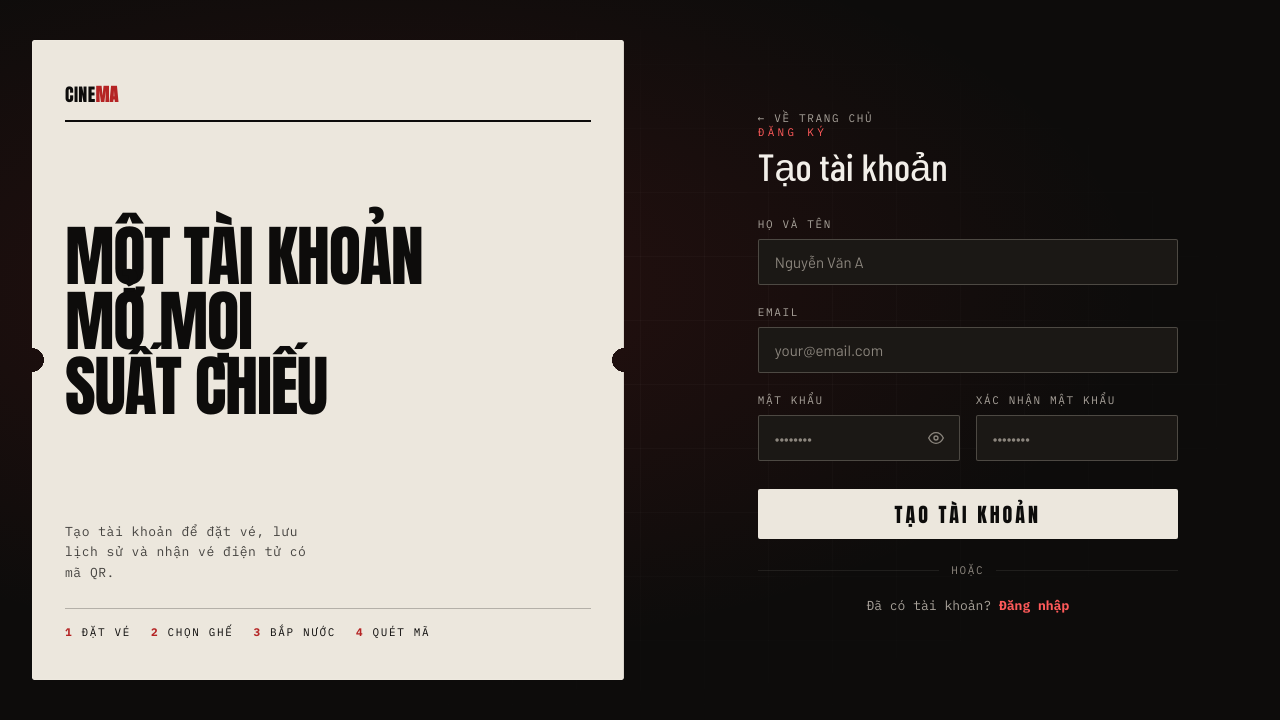
it: Register › thiếu trường thì báo lỗi, không gọi API
The width and height of the screenshot is (1280, 720).
Check: the button "Tạo tài khoản" is shown, box x1=758 y1=489 x2=1178 y2=539
Type "Người Mới" into the field labelled "Họ và tên".
click(968, 262); type("Người Mới")  # box x1=758 y1=239 x2=1178 y2=285
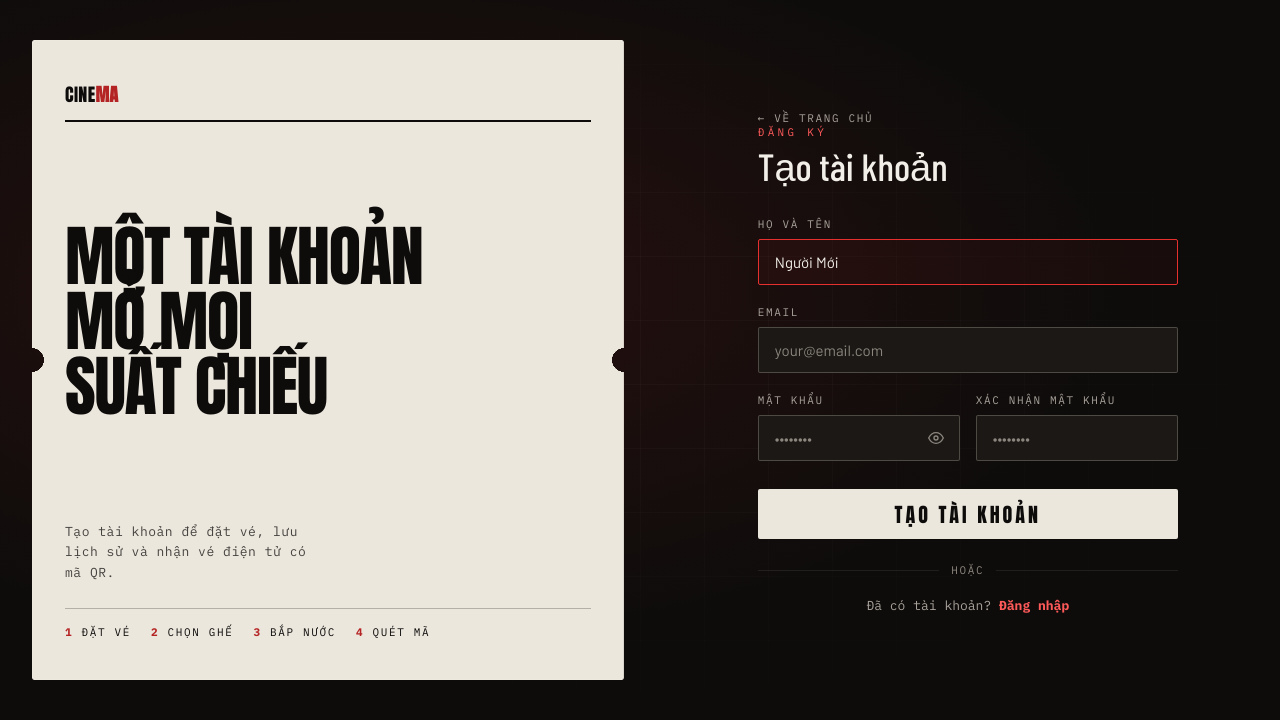
Click the button "Tạo tài khoản".
click(968, 514)  # box x1=758 y1=489 x2=1178 y2=539
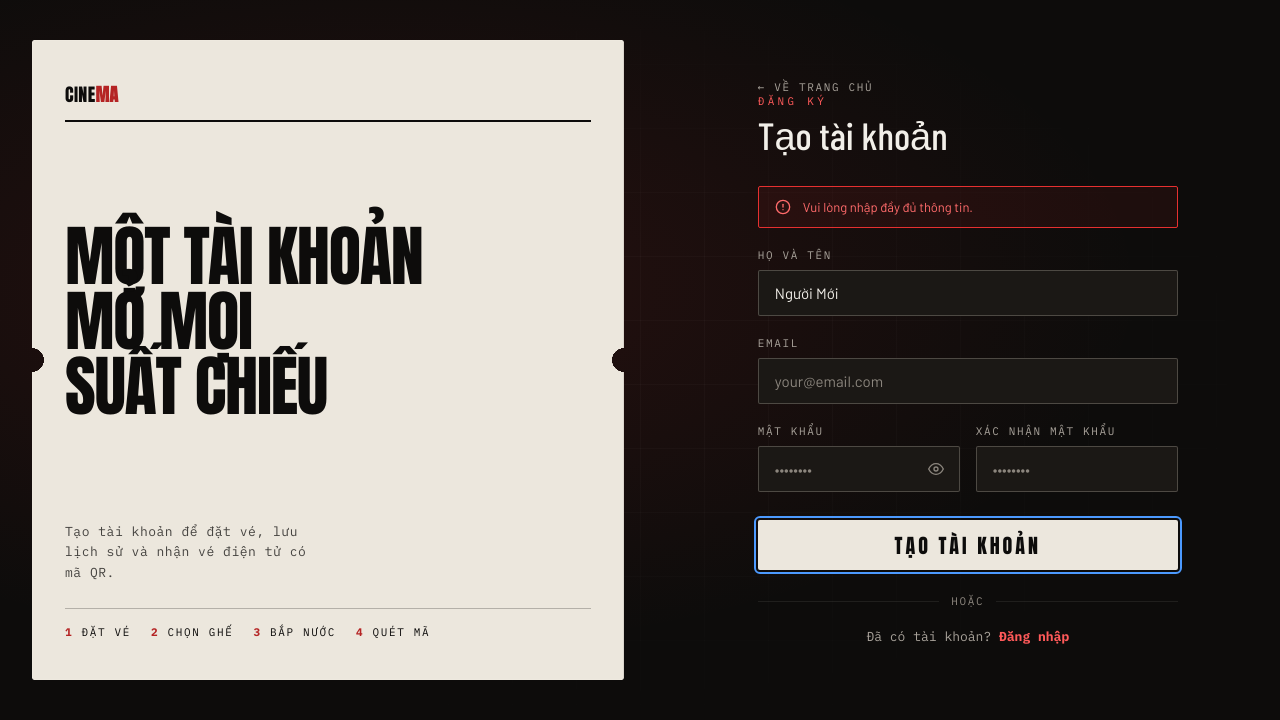
Check: the text "Vui lòng nhập đầy đủ thông tin." is shown, box x1=758 y1=186 x2=1178 y2=228
